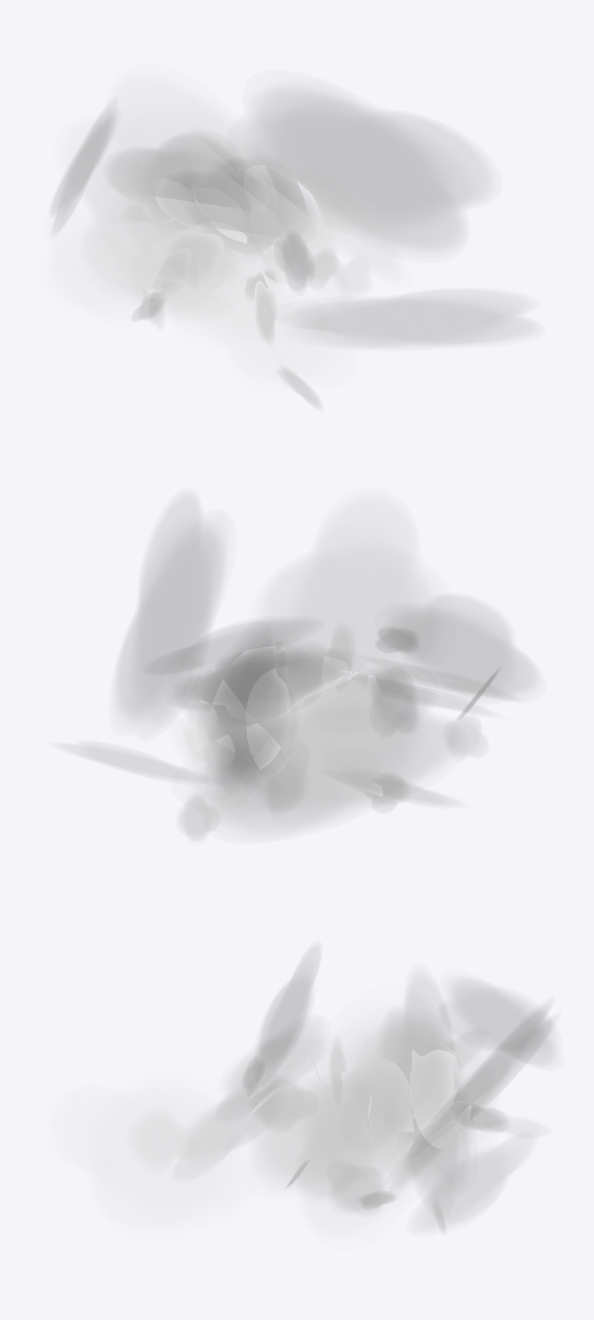
The model's file is road_dust.glb.
3 views of the same model, one above another, from view 1: azimuth 30°, elevation 25°; view 2: azimuth 150°, elevation 25°; view 3: azimuth 270°, elevation 25° (orthographic). The views are drawn at different scales.
Parts seen in each view (by area): view 1: smoke; view 2: smoke; view 3: smoke.
Part boxes in pixels (x1=…): smoke: x1=50, y1=81, x2=530, y2=408; smoke: x1=59, y1=513, x2=533, y2=839; smoke: x1=66, y1=957, x2=553, y2=1233.
Bounding box in the file's own units: 1.45 × 1.16 × 1.77.
Materials: 1 (1 with a texture image).
